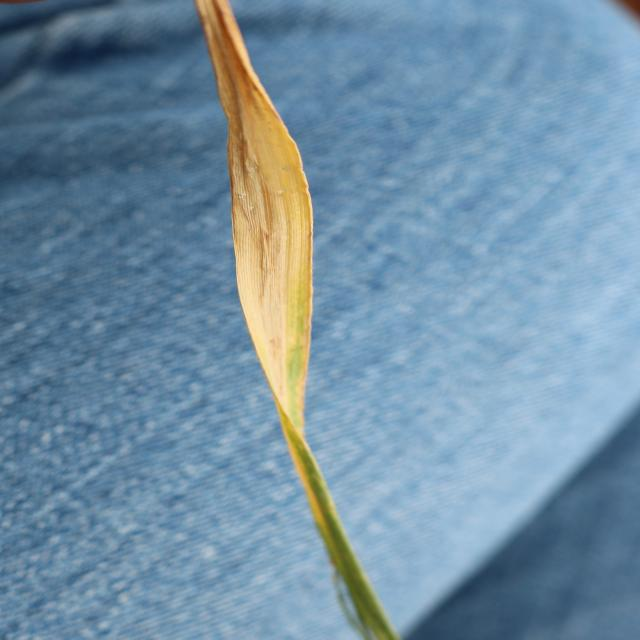Septoria: (192, 1, 402, 638)
